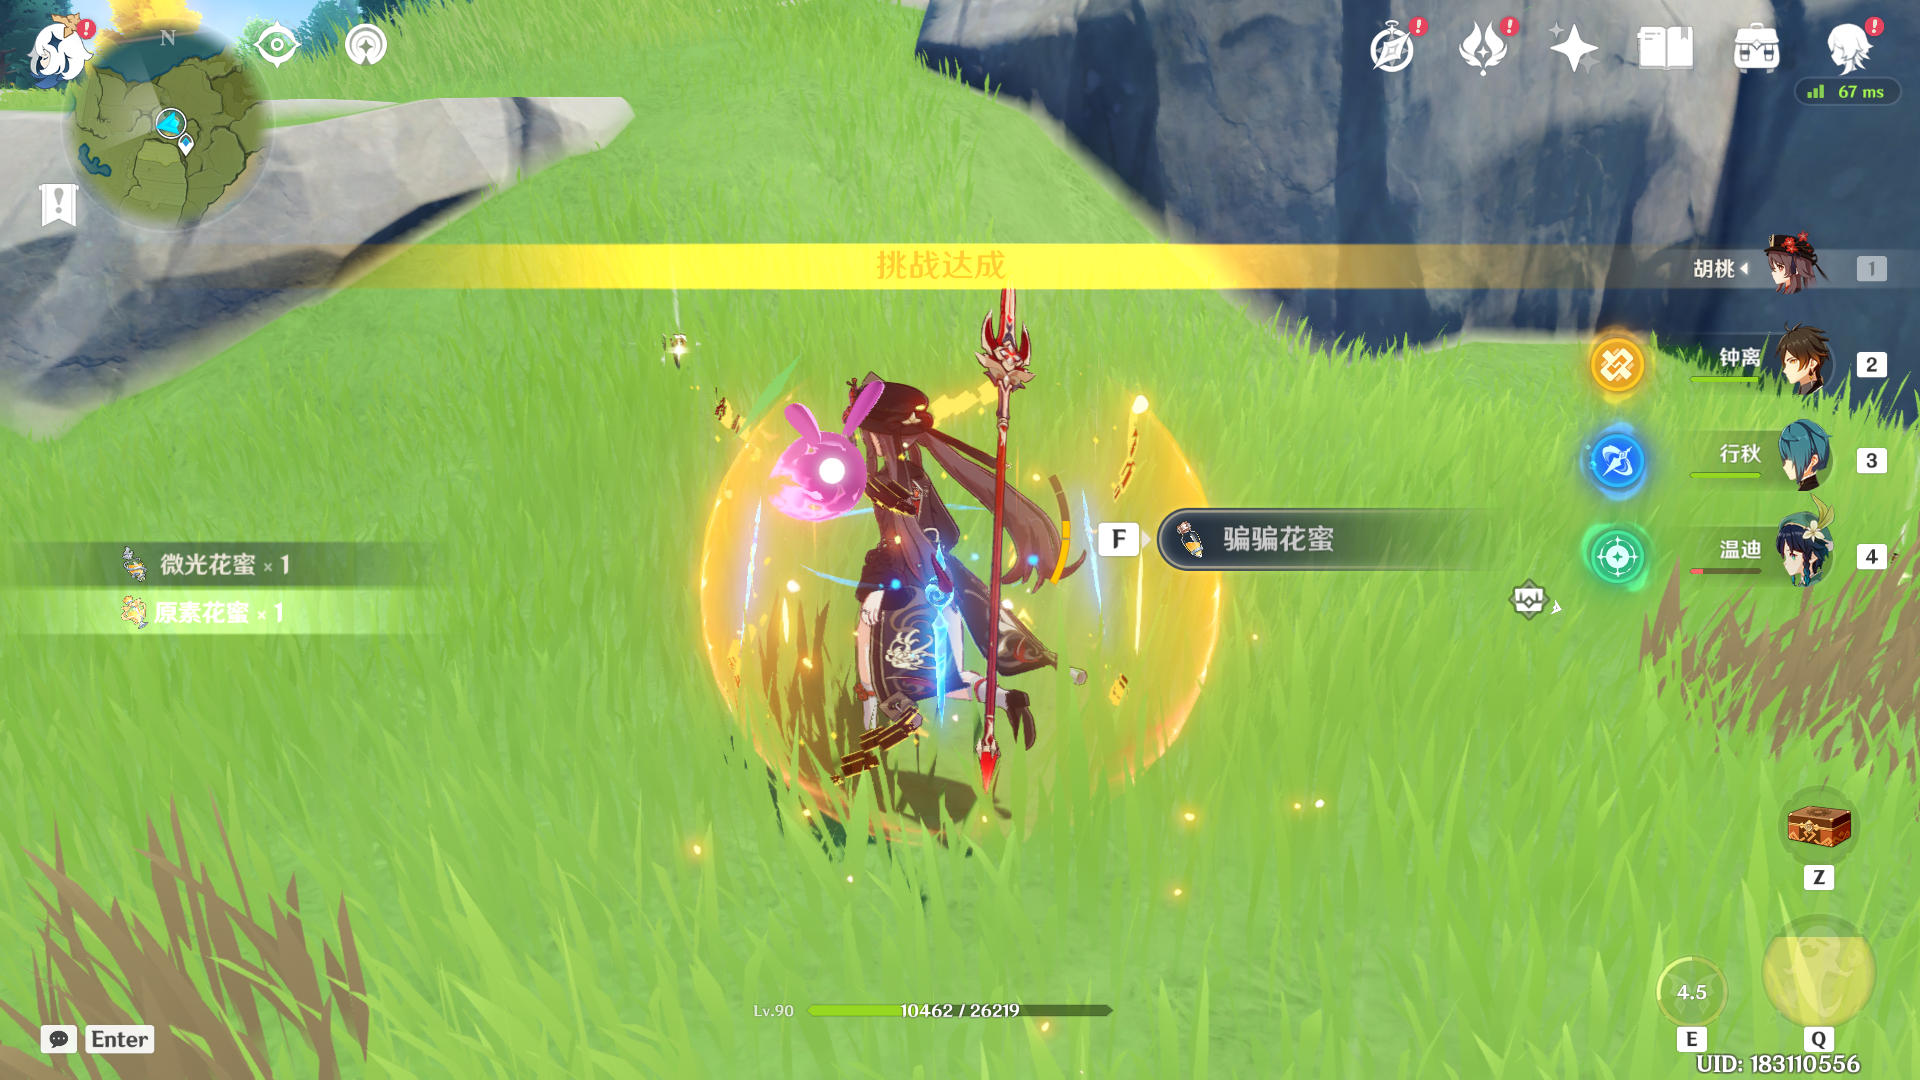character: (732, 320, 1055, 823)
